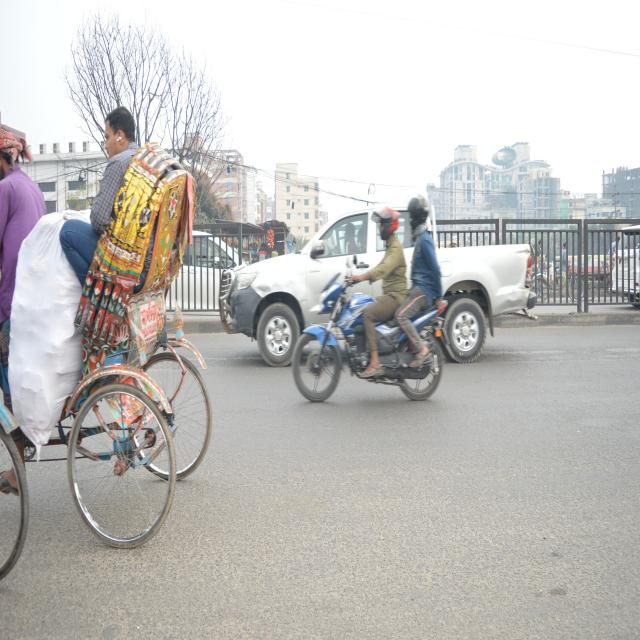microbus: (219, 195, 545, 388)
motorbike: (293, 268, 456, 416)
